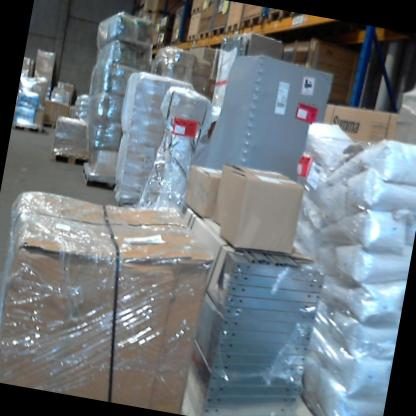pallet: (78, 167, 117, 192), (266, 7, 303, 29), (238, 9, 266, 35), (50, 151, 90, 169), (11, 119, 45, 135), (224, 18, 242, 37), (196, 26, 213, 43), (210, 23, 226, 41), (150, 7, 170, 19), (189, 4, 203, 18), (41, 119, 60, 129), (158, 24, 173, 35), (186, 32, 198, 45), (154, 40, 166, 51), (168, 38, 179, 48)
